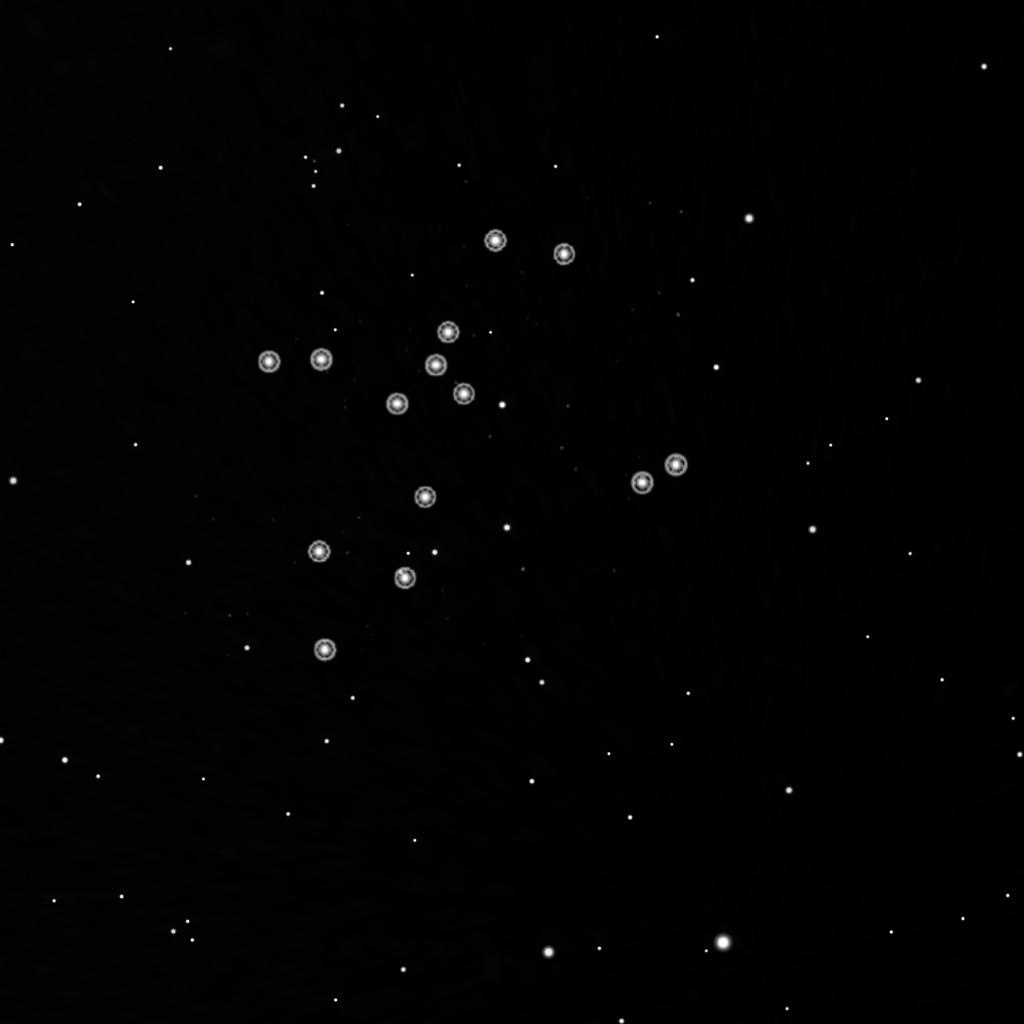canis_major: (381, 221, 580, 423)
